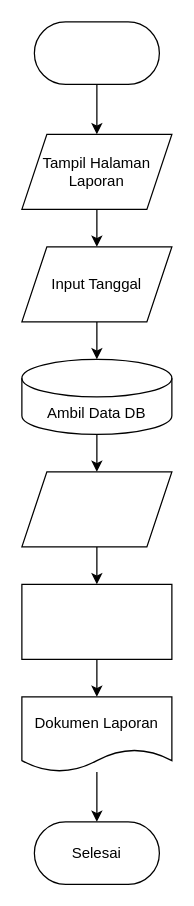
The diagram is 194 pixels wide and 906 high, and some of its shapes have lost their labels. Each missing label, with the centre of its shape:
"Klik Cetak" belongs at (96,621).
"Mulai" belongs at (96,52).
"Tampil Data" belongs at (96,509).
